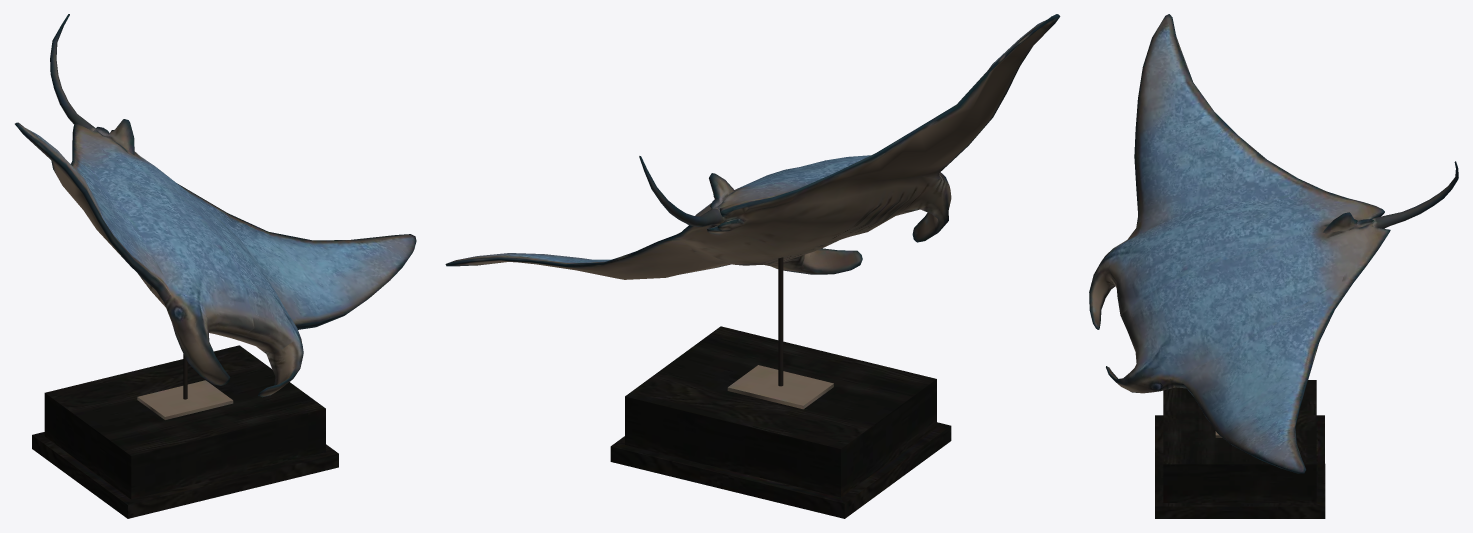
The model's file is manta.glb.
3 renders of one model, left to right at view 1: azimuth 30°, elevation 25°; view 2: azimuth 150°, elevation 25°; view 3: azimuth 270°, elevation 25°, orthographic. The views are drawn at different scales.
Parts seen in each view (by area): view 1: bronze_ray_statue; view 2: bronze_ray_statue; view 3: bronze_ray_statue.
Boxes of the visible parts, x1=… form: bronze_ray_statue: x1=15, y1=14, x2=416, y2=518; bronze_ray_statue: x1=445, y1=14, x2=1060, y2=518; bronze_ray_statue: x1=1089, y1=14, x2=1458, y2=518.
Bounding box in the file's own units: 0.7075 × 0.5897 × 0.5355.
Materials: 1 (1 with a texture image).
